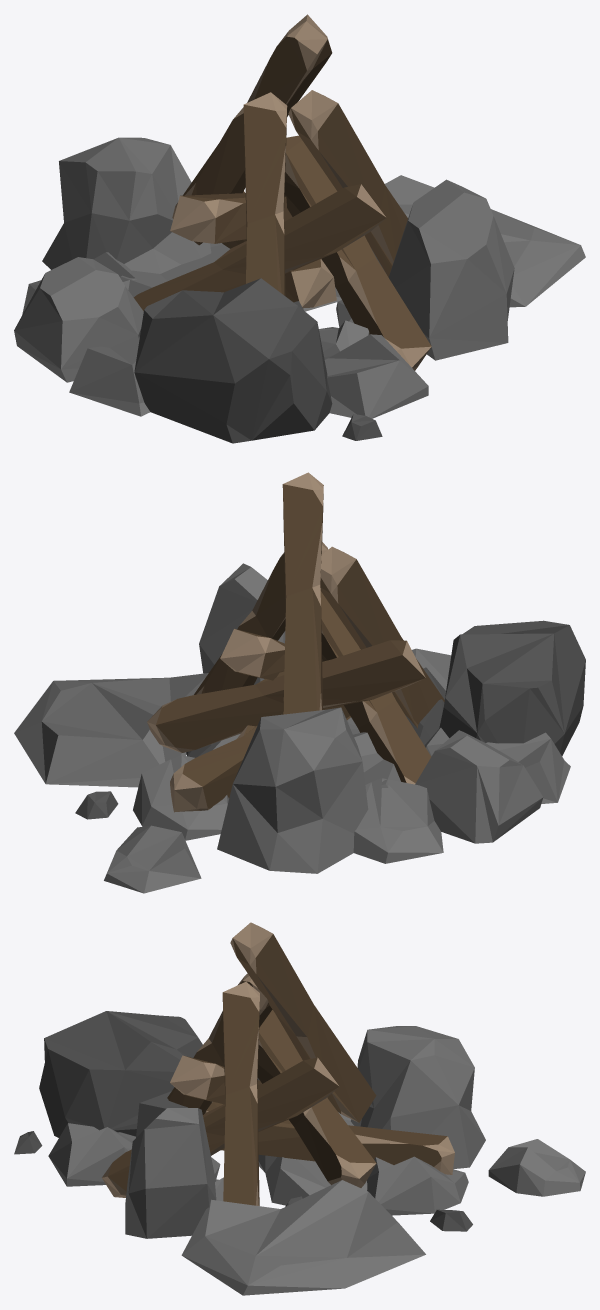
File: Bonfire_03.FBX
3 views of the same model, one above another, from view 1: azimuth 30°, elevation 25°; view 2: azimuth 150°, elevation 25°; view 3: azimuth 270°, elevation 25° (orthographic). The views are drawn at different scales.
Visible parts, largest first — view 1: Bonfire_03; view 2: Bonfire_03; view 3: Bonfire_03.
Boxes of the visible parts, <box> form: Bonfire_03: <box>14,14,585,443</box>; Bonfire_03: <box>14,472,585,893</box>; Bonfire_03: <box>14,922,585,1295</box>.
Size of the model in its own units: 2.66 by 1.54 by 2.91.
